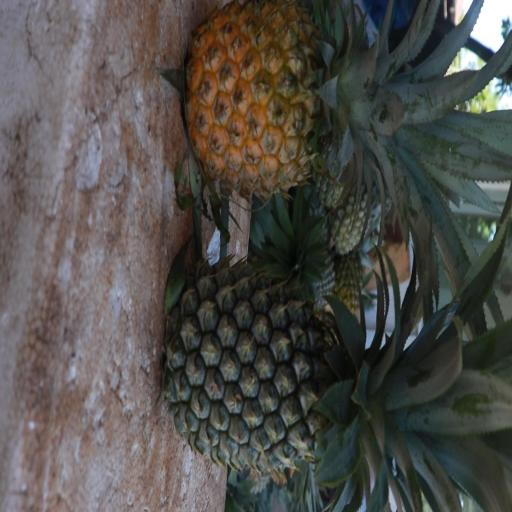Pineapple - v8 v1: (190, 3, 475, 192)
